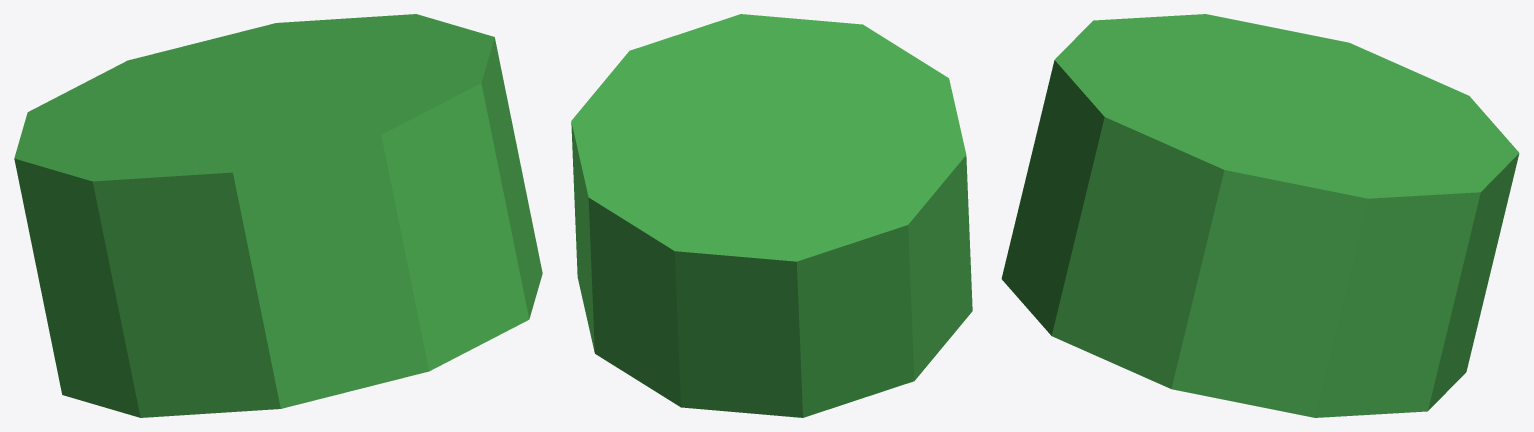
The model's file is group621005826_lev3.002.glb.
The picture shows the model from 3 angles, left to right: view 1: azimuth 30°, elevation 25°; view 2: azimuth 150°, elevation 25°; view 3: azimuth 270°, elevation 25°; orthographic projection. The views are drawn at different scales.
Parts seen in each view (by area): view 1: group621005826_lev3.002; view 2: group621005826_lev3.002; view 3: group621005826_lev3.002.
Boxes of the visible parts, <box> form: group621005826_lev3.002: <box>14,14,542,417</box>; group621005826_lev3.002: <box>571,14,972,417</box>; group621005826_lev3.002: <box>1001,14,1519,417</box>.
Size of the model in its own units: 0.5491 by 0.3942 by 0.5963.
